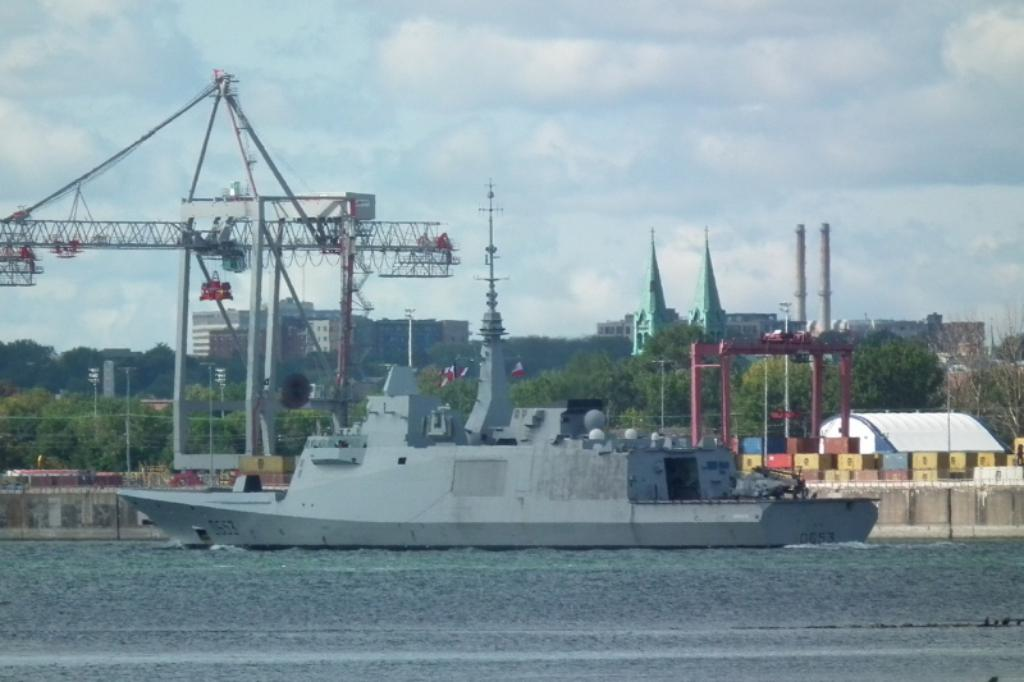Warship: (110, 174, 886, 554)
